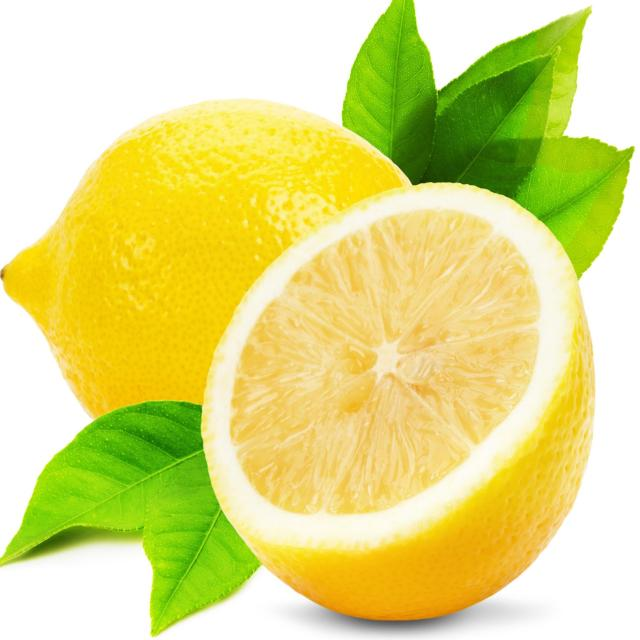lemon: (195, 178, 597, 628)
